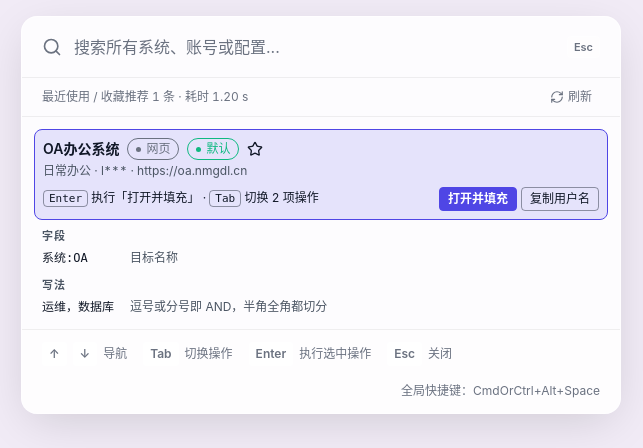
Test case: 浮层空输入推荐（需求 §285：由设置启用，锁定时不得显示） › 锁定响应下不渲染任何条目，即使之前有过推荐
Type "OA" into the field named "快速查找账号" at (320, 47), box [74,17,567,77]
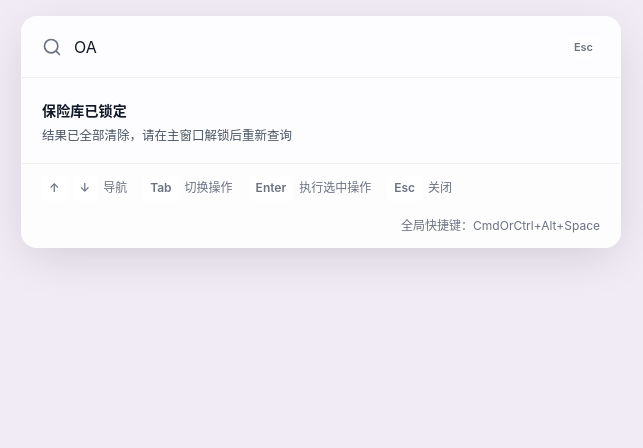
Result: the text "保险库已锁定" is shown at [42,102,127,119]
Result: the text "结果已全部清除，请在主窗口解锁后重新查询" is shown at [42,128,292,143]
Result: the option "OA办公系统" is gone
